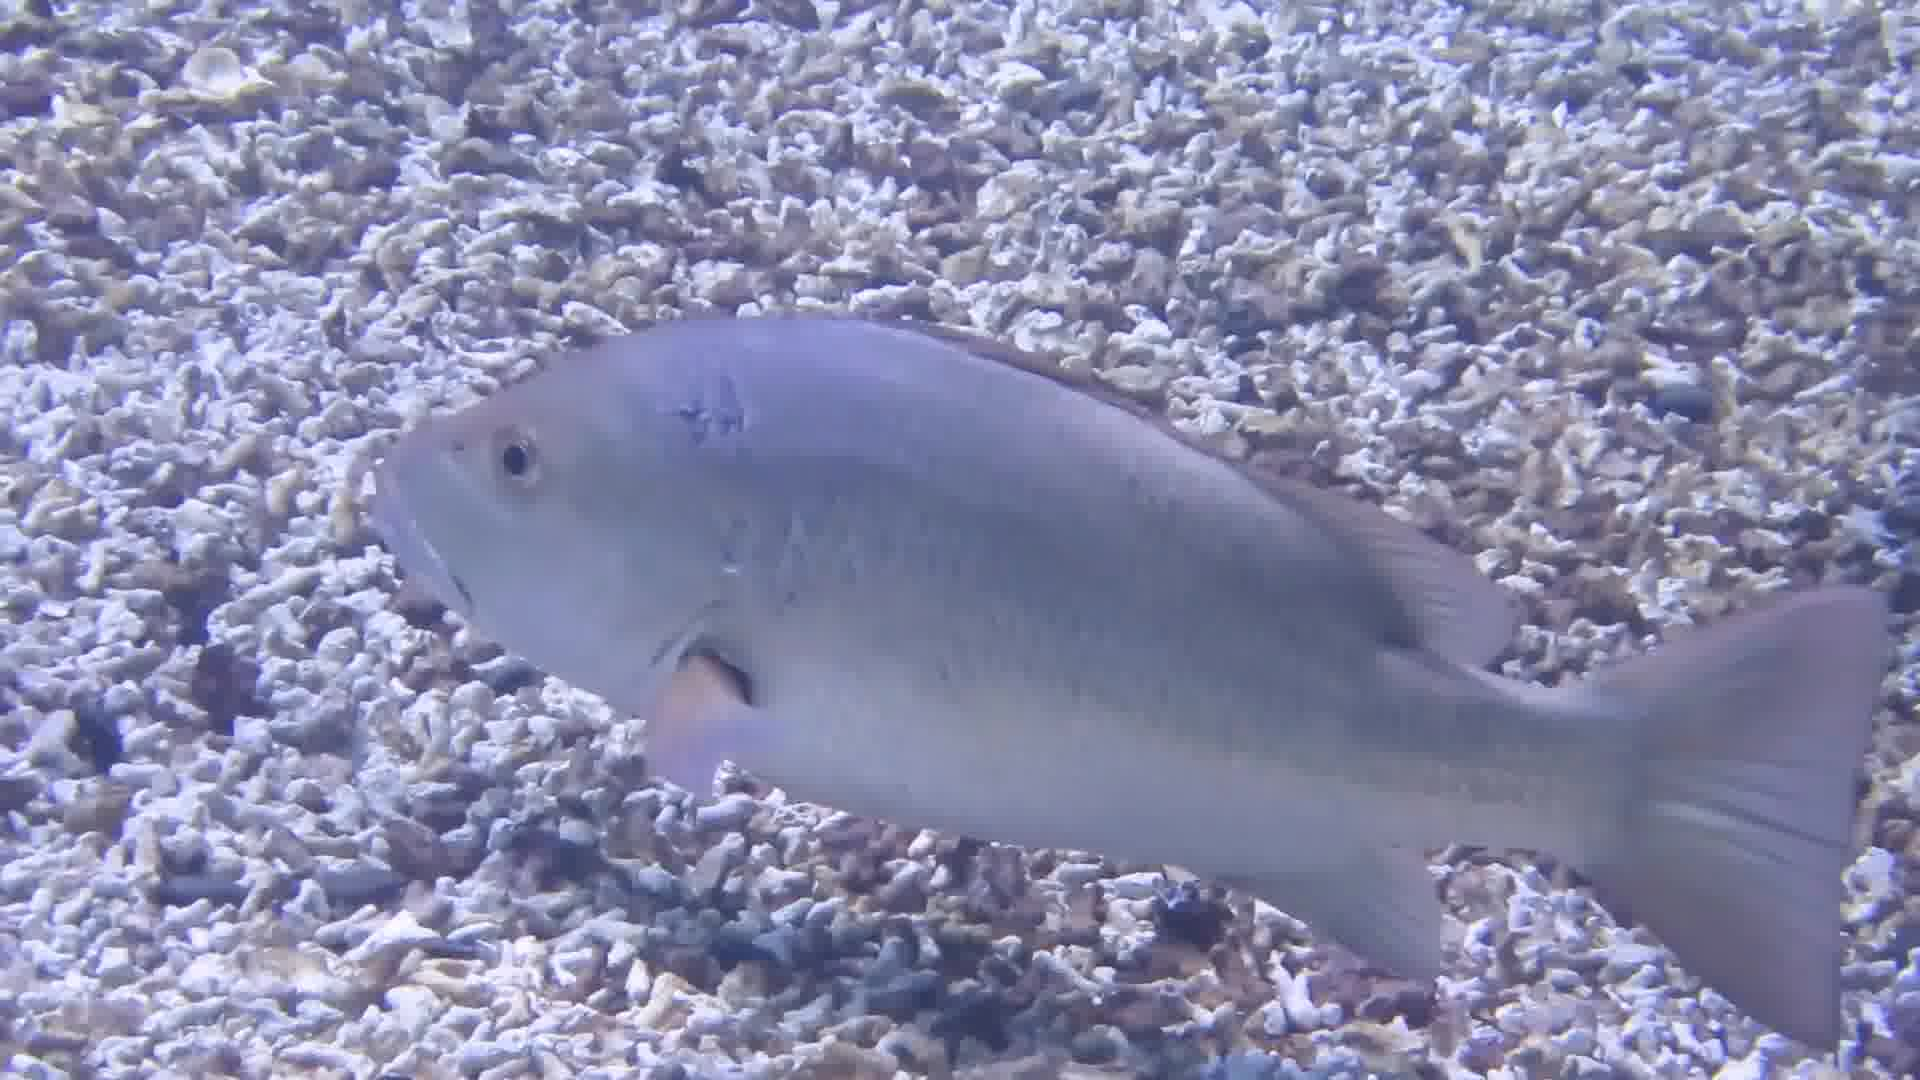Lutjanus argentimaculatus: (377, 294, 1607, 957)
